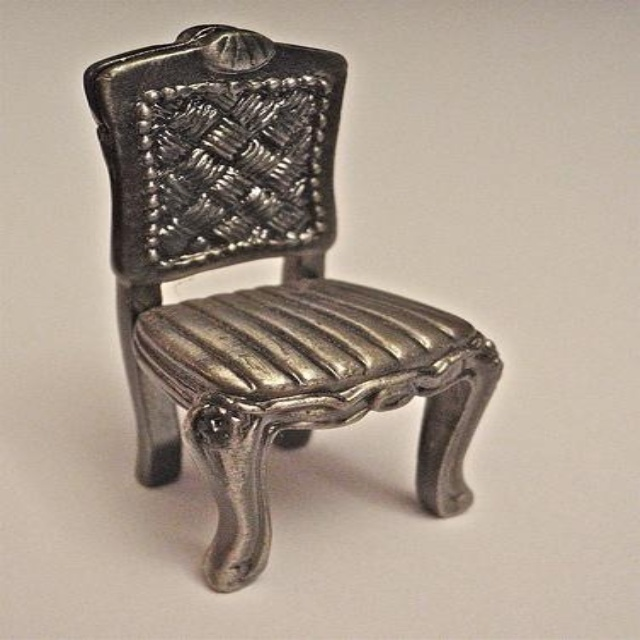obstacle: (85, 24, 500, 591)
